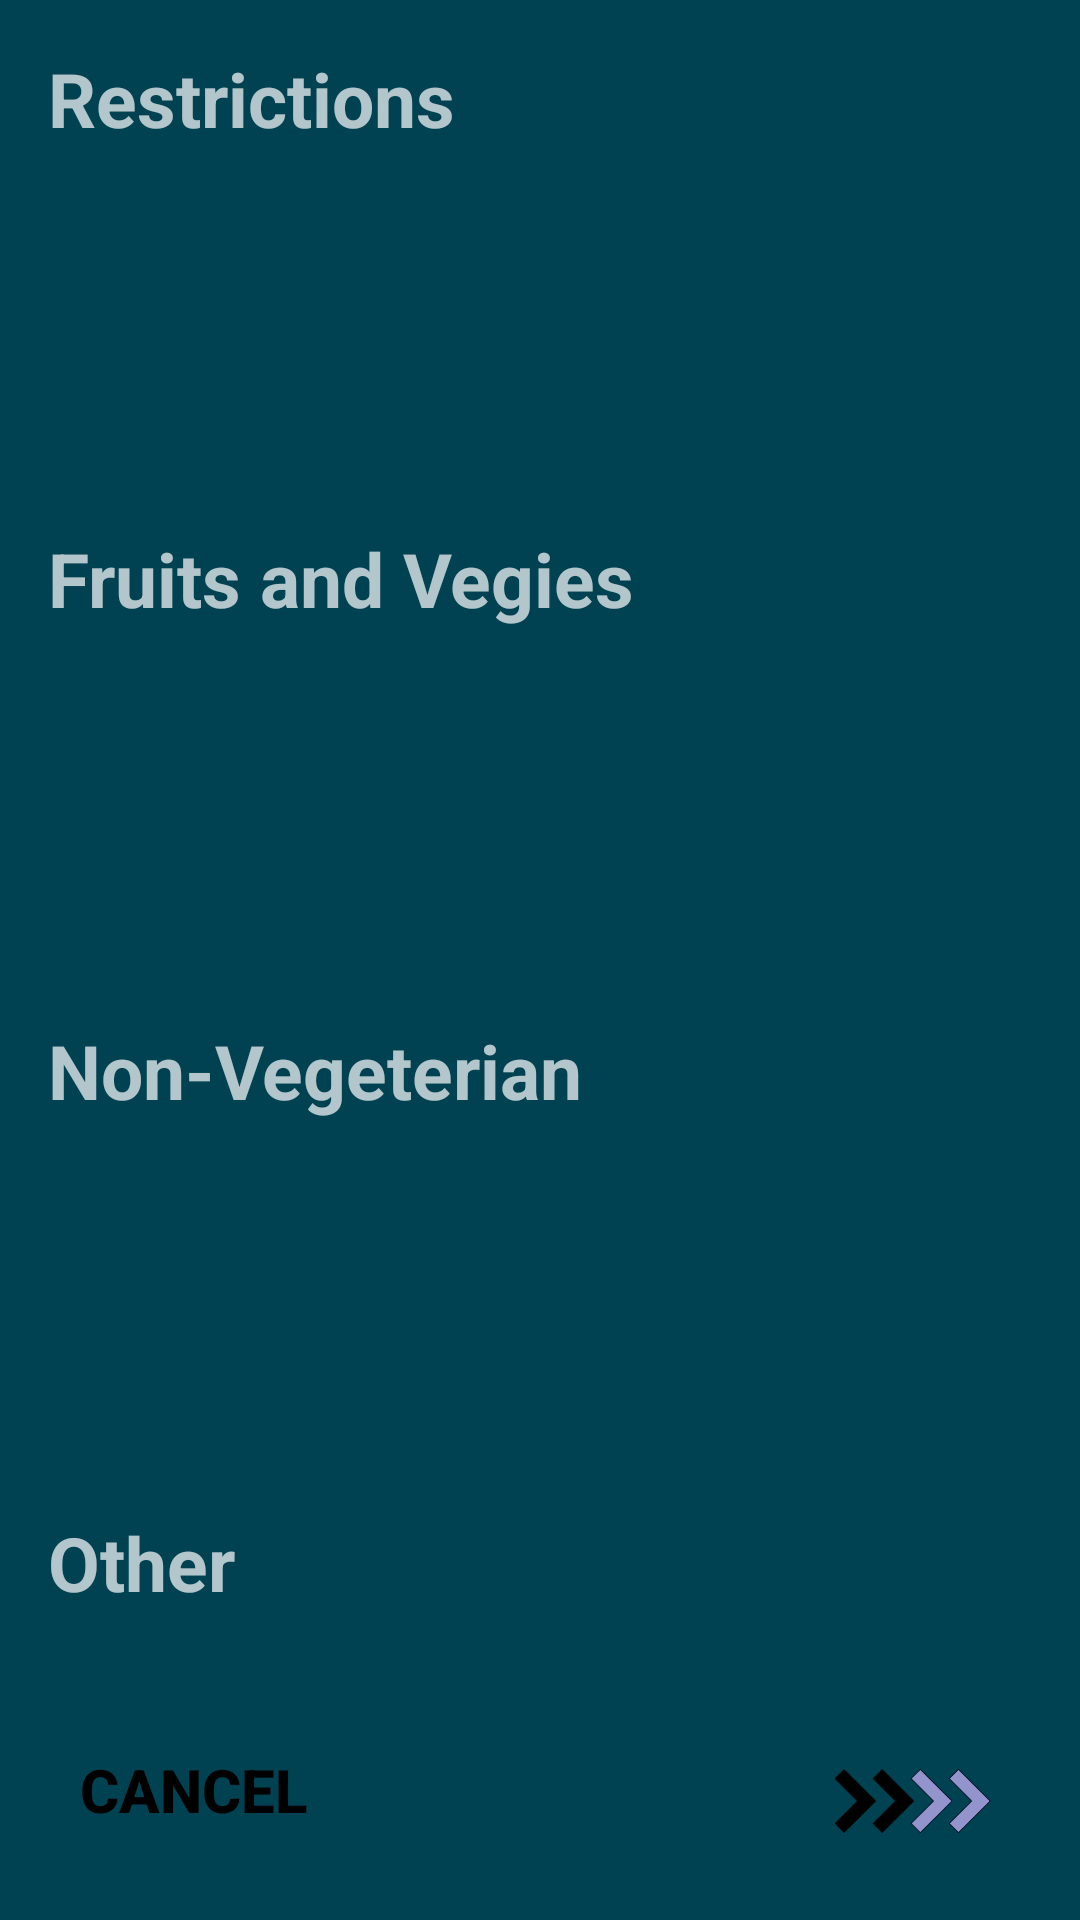

Icon click points for this 1080 × 1920 phone screenshot, format [x,y]:
Next: [913,1801]
